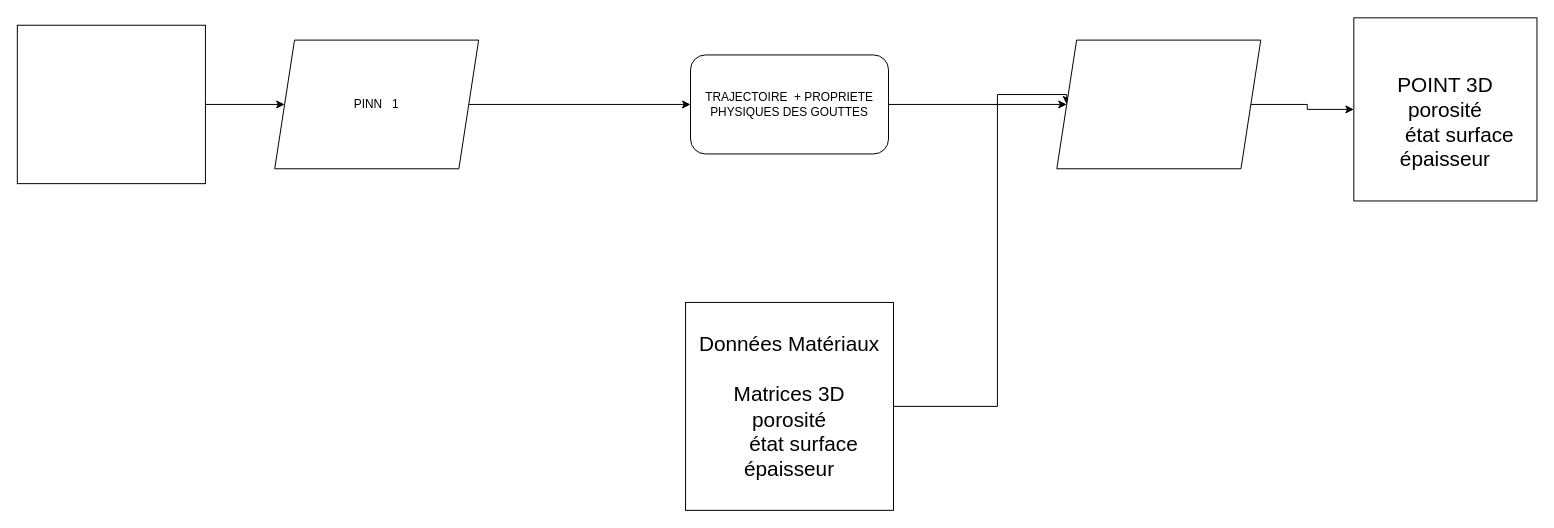
This 1554x528 diagram has some shape labels left out. Each missing label, with the centre of its shape:
"Données procédés + trajet" goes at point 110,104.
"RESEAU AUTO ENCODEUR" goes at point 1158,104.
